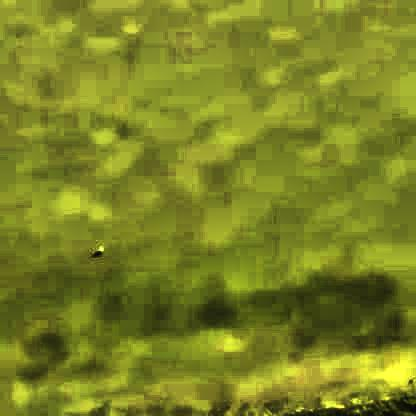golfball: (95, 243, 102, 250)
